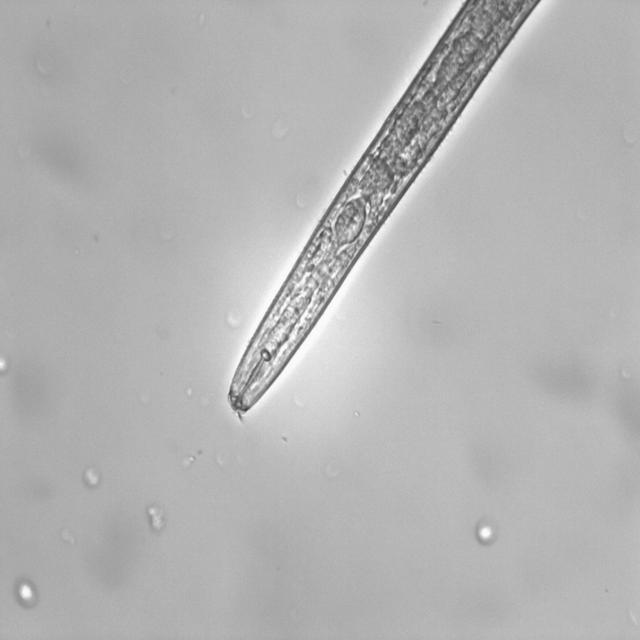Pratylenchus: (224, 0, 552, 425)
